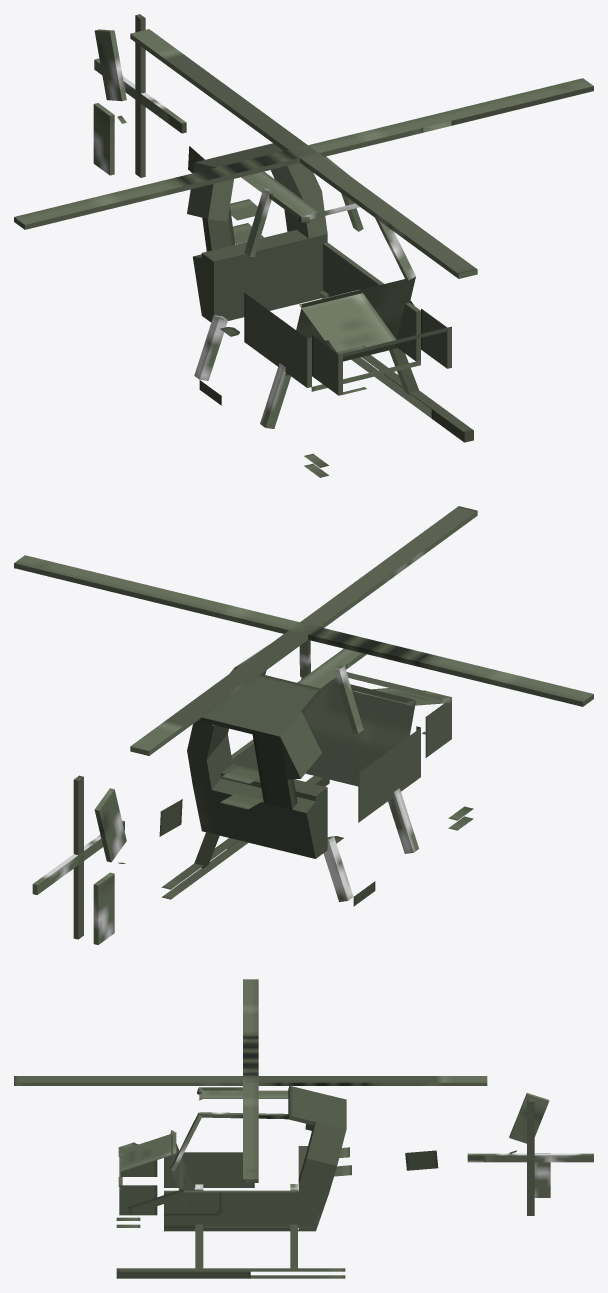
File: noah_chopper.obj
3 renders of one model, top to bottom at view 1: azimuth 30°, elevation 25°; view 2: azimuth 150°, elevation 25°; view 3: azimuth 270°, elevation 25°, orthographic. The views are drawn at different scales.
Visible parts, largest first — view 1: blade_main, cube18, cube2, cube5, cube4, cube3, blade_back, cube39, cube11, cube8, cube29, cube31 (+13 smaller); view 2: blade_main, cube3, cube17, cube16, cube5, blade_back, cube15, cube11, cube18, cube39, cube29, cube31 (+10 smaller); view 3: blade_main, cube4, cube5, cube39, blade_back, cube16, cube2, cube13, cube21, cube33, cube18, cube29 (+9 smaller).
Boxes of the visible parts, x1,y1,x2,y2 form: blade_main: (14, 29, 593, 278); cube18: (201, 230, 327, 322); cube2: (299, 289, 447, 356); cube5: (244, 292, 311, 387); cube4: (323, 242, 420, 361); cube3: (285, 276, 415, 375); blade_back: (94, 14, 186, 177); cube39: (351, 355, 473, 442); cube11: (187, 162, 233, 221); cube8: (241, 171, 360, 219); cube29: (94, 29, 126, 101); cube31: (93, 103, 114, 175); blade_main: (14, 506, 593, 755); cube3: (301, 677, 415, 786); cube17: (192, 778, 325, 858); cube16: (197, 667, 320, 736); cube5: (358, 726, 420, 822); blade_back: (32, 775, 124, 939); cube15: (252, 730, 297, 809); cube11: (274, 711, 321, 779); cube18: (202, 764, 327, 858); cube39: (161, 776, 329, 899); cube29: (94, 788, 126, 862); cube31: (93, 872, 114, 944); blade_main: (14, 979, 487, 1182); cube4: (164, 1190, 313, 1227); cube5: (164, 1152, 254, 1187); cube39: (116, 1268, 345, 1278); blade_back: (467, 1100, 593, 1215); cube16: (288, 1086, 346, 1129); cube2: (119, 1132, 176, 1189); cube13: (306, 1122, 346, 1165); cube21: (298, 1153, 336, 1193); cube33: (119, 1185, 157, 1215); cube18: (298, 1146, 315, 1231); cube29: (509, 1093, 549, 1143).
Bounding box in the file's own units: 7.5 × 3.02 × 9.19.
